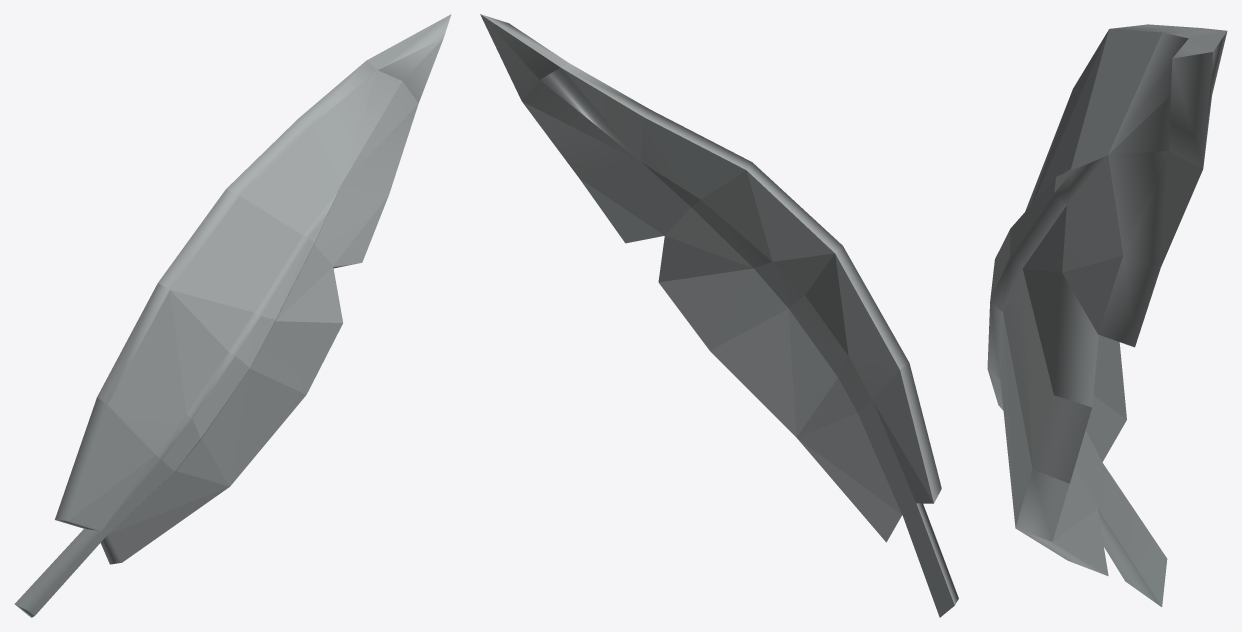
The model's file is featherSilver.fbx.
The picture shows the model from 3 angles, left to right: view 1: azimuth 30°, elevation 25°; view 2: azimuth 150°, elevation 25°; view 3: azimuth 270°, elevation 25°; orthographic projection. The views are drawn at different scales.
Parts seen in each view (by area): view 1: featherSilver; view 2: featherSilver; view 3: featherSilver.
Boxes of the visible parts, box(x1,y1,x2,y2) form: featherSilver: box(14, 14, 451, 617); featherSilver: box(480, 14, 958, 617); featherSilver: box(987, 24, 1227, 606).
Bounding box in the file's own units: 1.51 × 1.58 × 0.3507.
